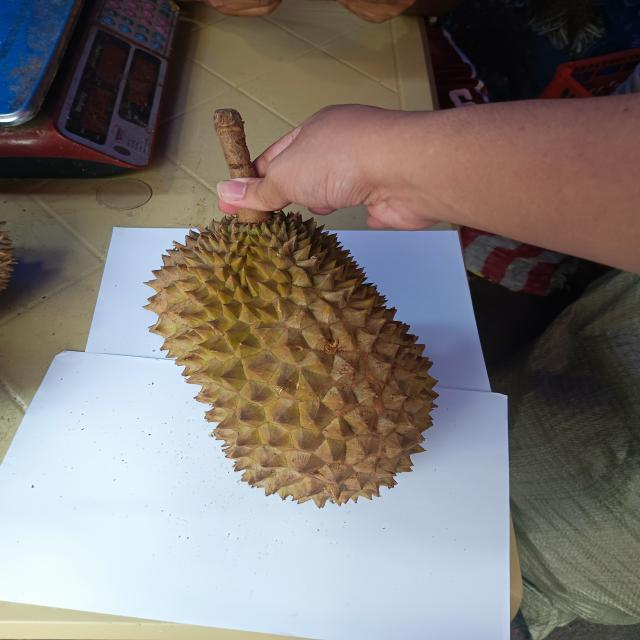mature: (142, 199, 438, 505)
